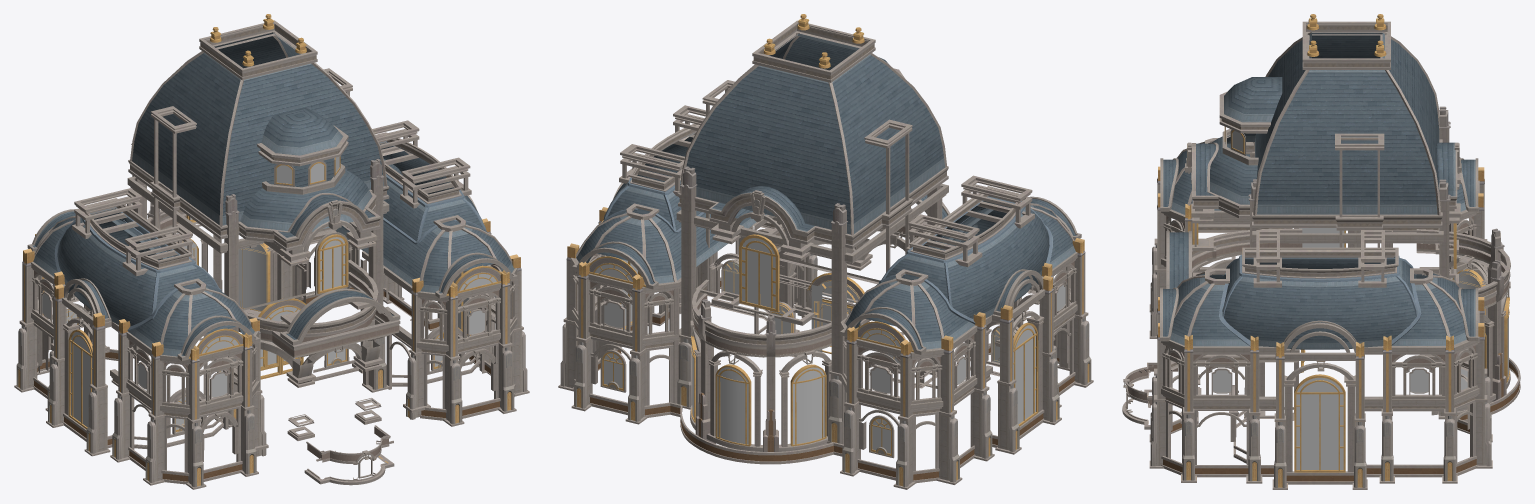
The model's file is Homeworld_Exterior_Fd_Build_Mainhouse_01_Lod0.fbx.
3 views of the same model, side by side, from view 1: azimuth 30°, elevation 25°; view 2: azimuth 150°, elevation 25°; view 3: azimuth 270°, elevation 25° (orthographic). The views are drawn at different scales.
Visible parts, largest first — view 1: Homeworld_Exterior_Fd_Build_Mainhouse_01_Lod0; view 2: Homeworld_Exterior_Fd_Build_Mainhouse_01_Lod0; view 3: Homeworld_Exterior_Fd_Build_Mainhouse_01_Lod0.
Part boxes in pixels (x1,y1,x2,y2): Homeworld_Exterior_Fd_Build_Mainhouse_01_Lod0: [14, 14, 529, 489]; Homeworld_Exterior_Fd_Build_Mainhouse_01_Lod0: [558, 14, 1093, 489]; Homeworld_Exterior_Fd_Build_Mainhouse_01_Lod0: [1122, 14, 1520, 489].
Size of the model in its own units: 39.87 by 34.64 by 32.72.
